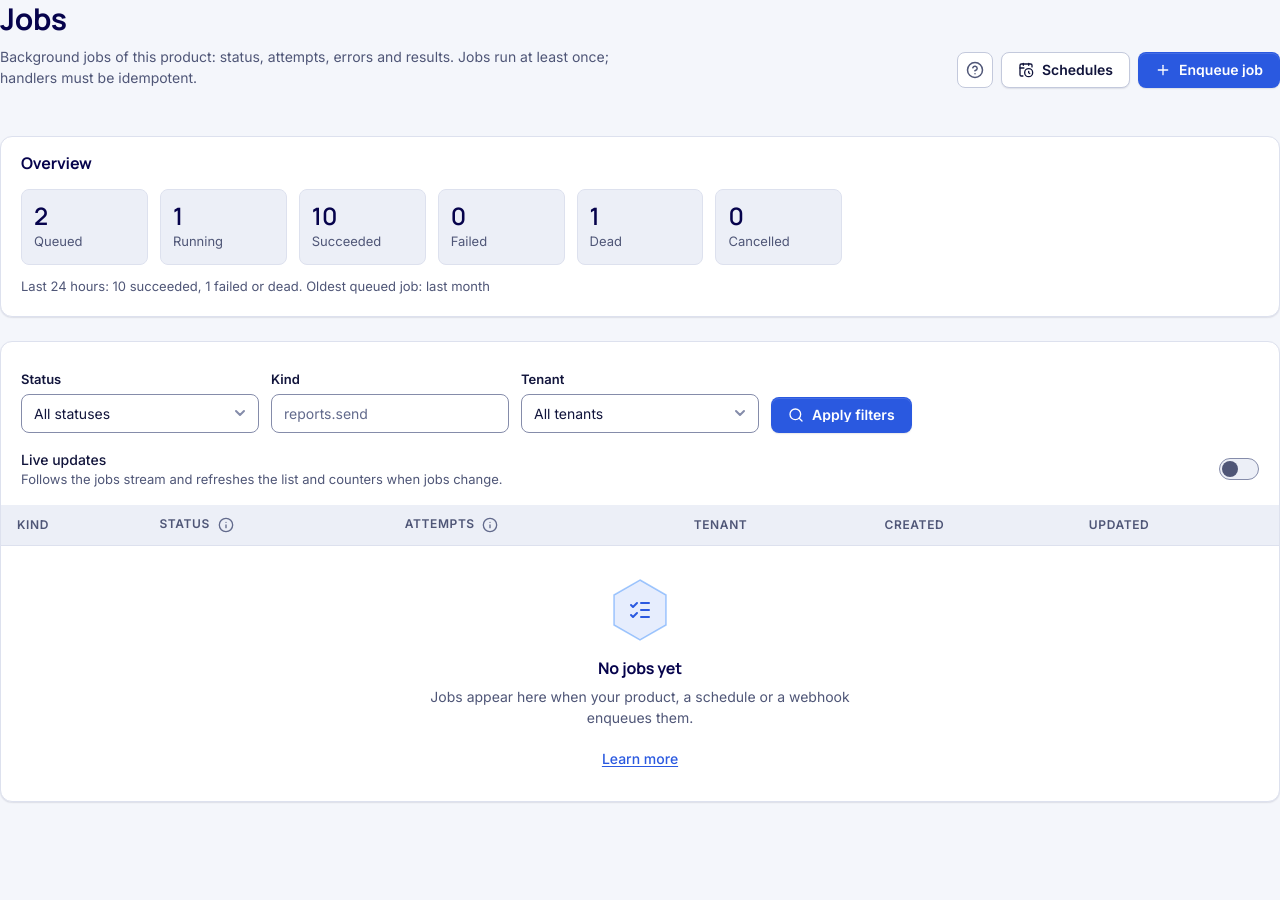
JobsPage › tells a tenant member when no kind is open to them in the tenant
Click the button "Enqueue job".
click(1209, 70)  # box [1138,52,1279,88]
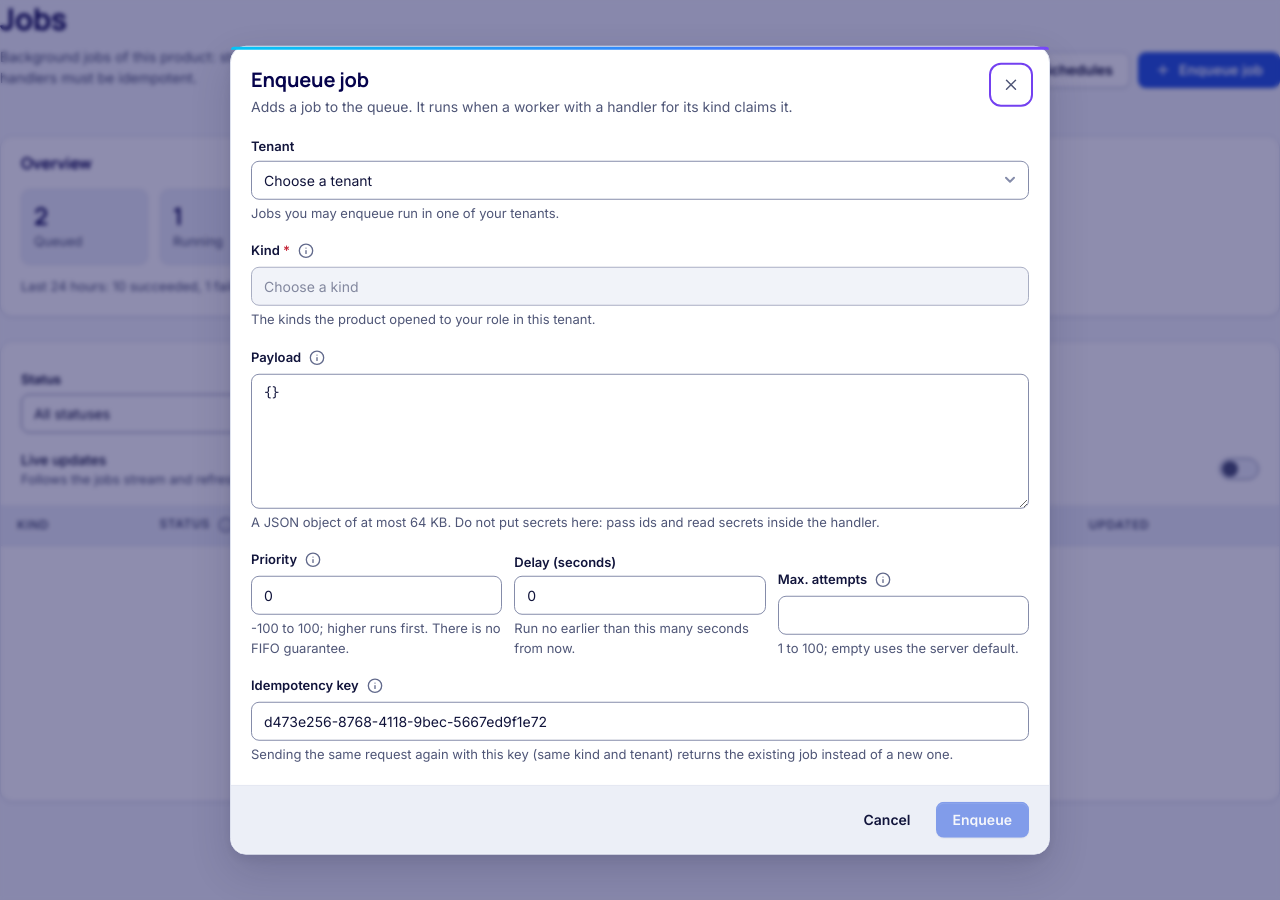
Select "Acme" in the dropdown labelled "Tenant" at point(640, 180), box [251,160,1029,199]
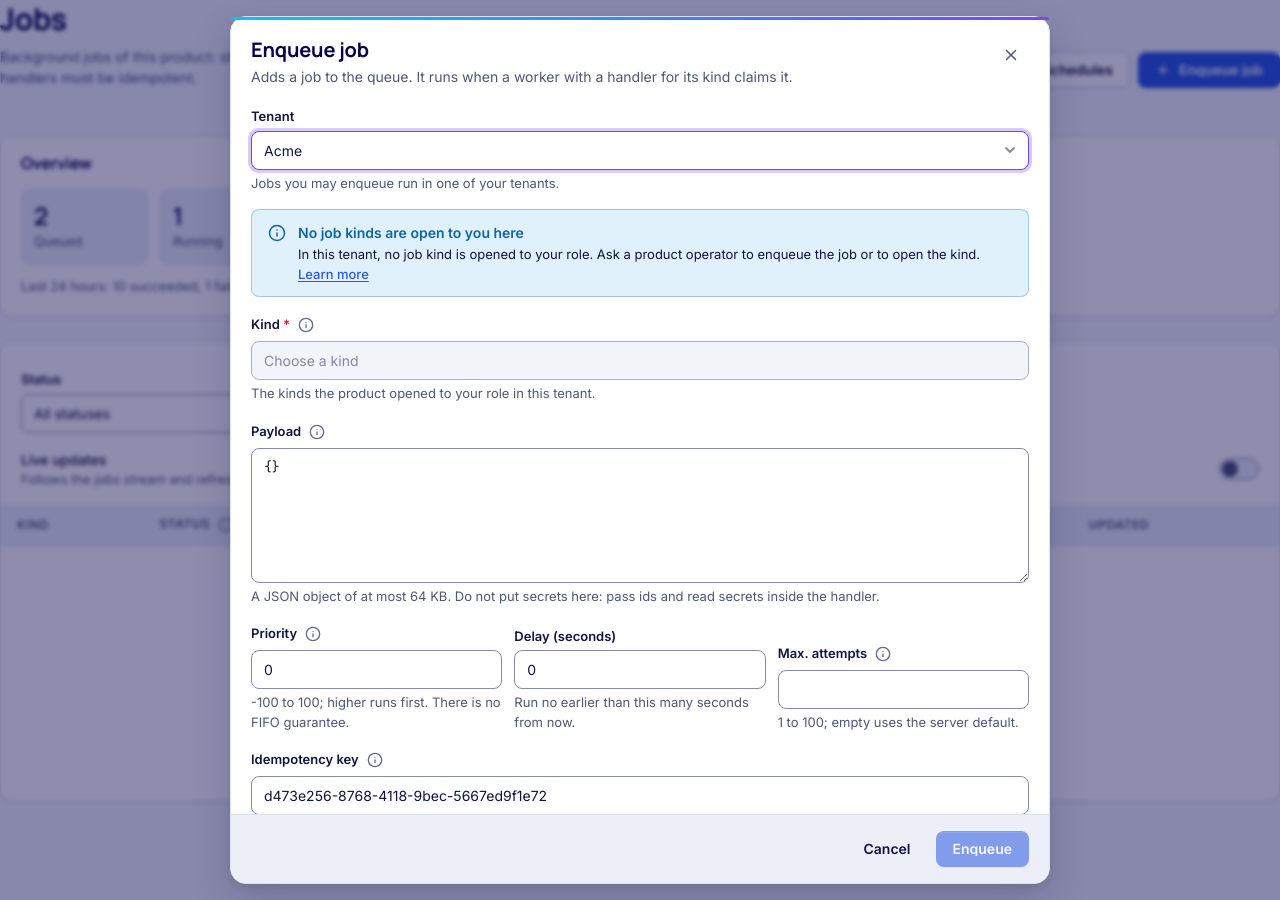
Expected: the button "Enqueue" is disabled, [936,831,1029,867]
Expected: the text "No job kinds are open to you here" is shown, [298,224,524,241]
